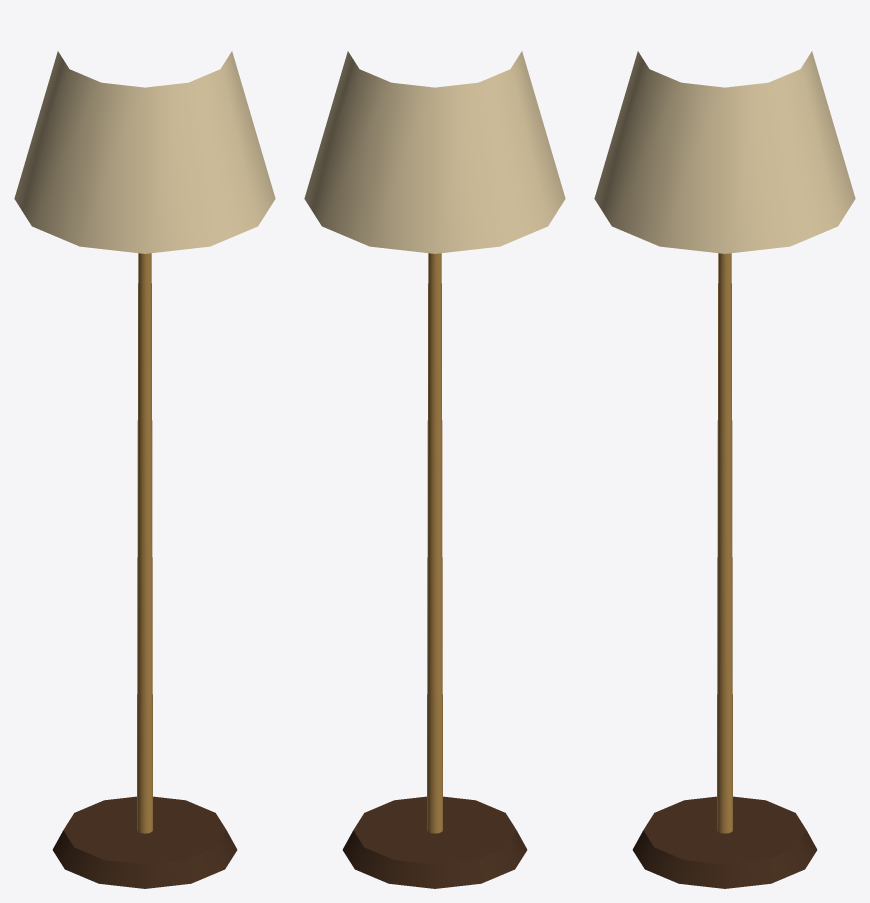
The model's file is floor_lamp_brass.glb.
3 views of the same model, side by side, from view 1: azimuth 30°, elevation 25°; view 2: azimuth 150°, elevation 25°; view 3: azimuth 270°, elevation 25° (orthographic).
Visible parts, largest first — view 1: Part2, Part0, Part1; view 2: Part2, Part0, Part1; view 3: Part2, Part0, Part1.
Boxes of the visible parts, x1,y1,x2,y2 form: Part2: (14, 51, 275, 253); Part0: (52, 796, 237, 888); Part1: (137, 253, 152, 833); Part2: (304, 51, 565, 253); Part0: (342, 796, 527, 888); Part1: (427, 253, 442, 833); Part2: (594, 51, 855, 253); Part0: (632, 796, 817, 888); Part1: (717, 253, 732, 833).
Size of the model in its own units: 0.48 by 1.62 by 0.48.
